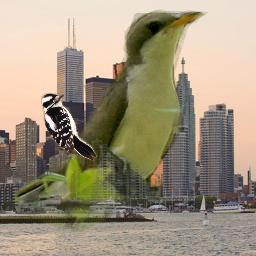Cuckoo: (15, 5, 208, 232)
Woodpecker: (41, 93, 97, 162)
